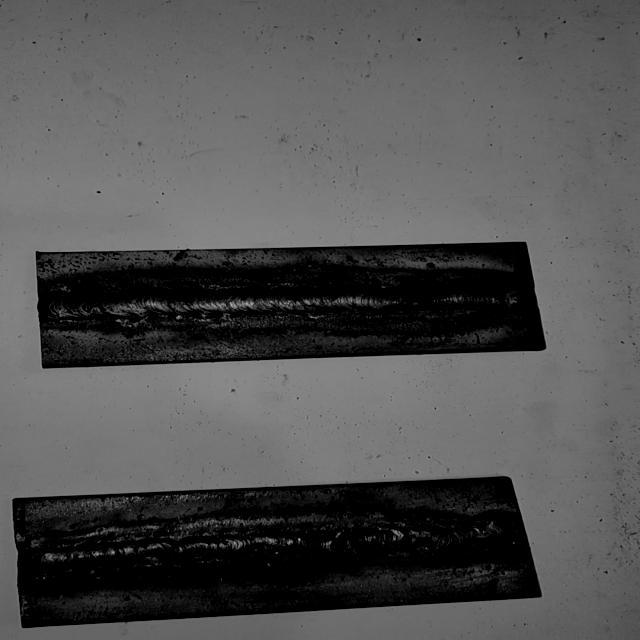Defect: (310, 516, 392, 566)
Welding Line: (20, 519, 518, 580), (43, 283, 536, 320)
Workpiece: (7, 473, 554, 634), (27, 238, 557, 370)
